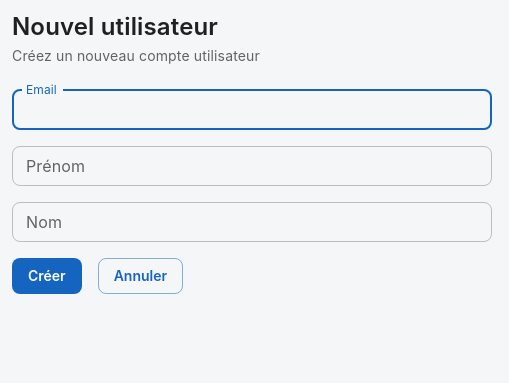
it: CreateUserPage › requires all fields to be filled
Click the button "Créer": (47, 276) x1=12 y1=258 x2=82 y2=294
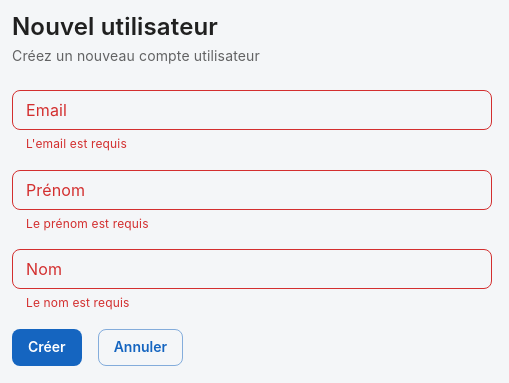
Result: the text "L'email est requis" is shown at x1=26 y1=136 x2=127 y2=151
